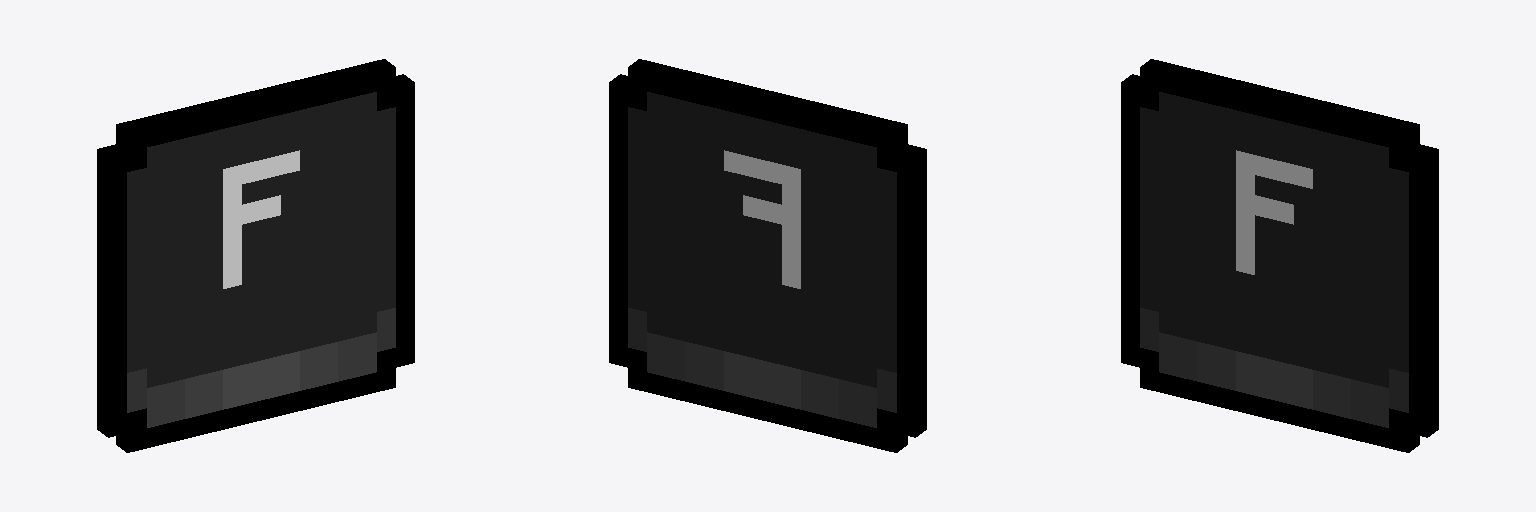
3 renders of one model, left to right at view 1: azimuth 30°, elevation 25°; view 2: azimuth 150°, elevation 25°; view 3: azimuth 330°, elevation 25°, orthographic.
Parts seen in each view (by area): view 1: object 1; view 2: object 1; view 3: object 1.
Boxes of the visible parts, box(x1,y1,x2,y2) form: object 1: box(97, 59, 414, 452); object 1: box(609, 59, 926, 452); object 1: box(1121, 59, 1438, 452).
Size of the model in its own units: 1.6 by 1.6 by 0.1.
Materials: 1 (1 with a texture image).